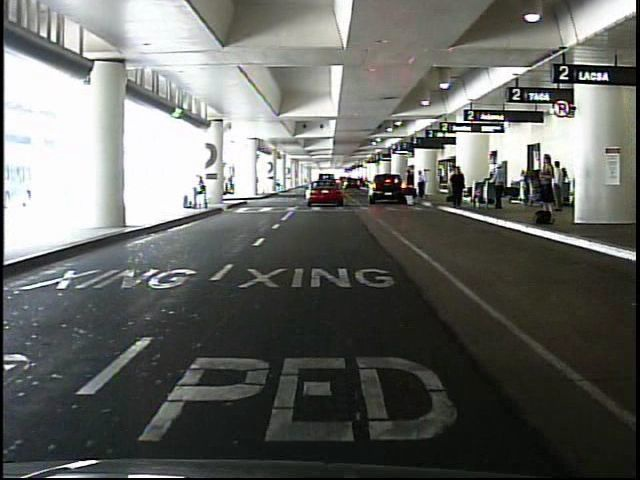person: (537, 153, 559, 213), (193, 173, 210, 213), (451, 167, 467, 209), (553, 162, 566, 213), (494, 164, 507, 211), (450, 165, 462, 204), (406, 169, 417, 208), (418, 169, 428, 199)
